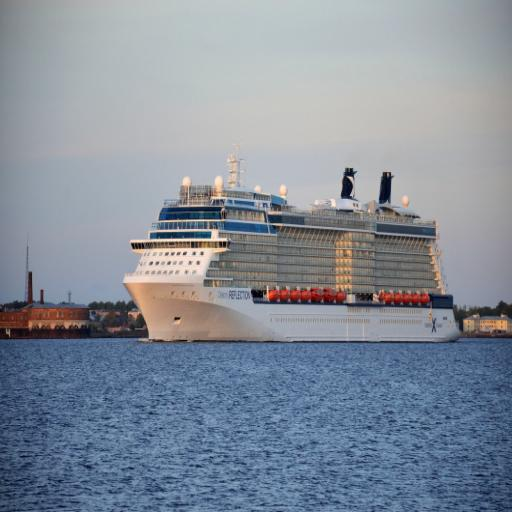cruises: (117, 138, 465, 348)
